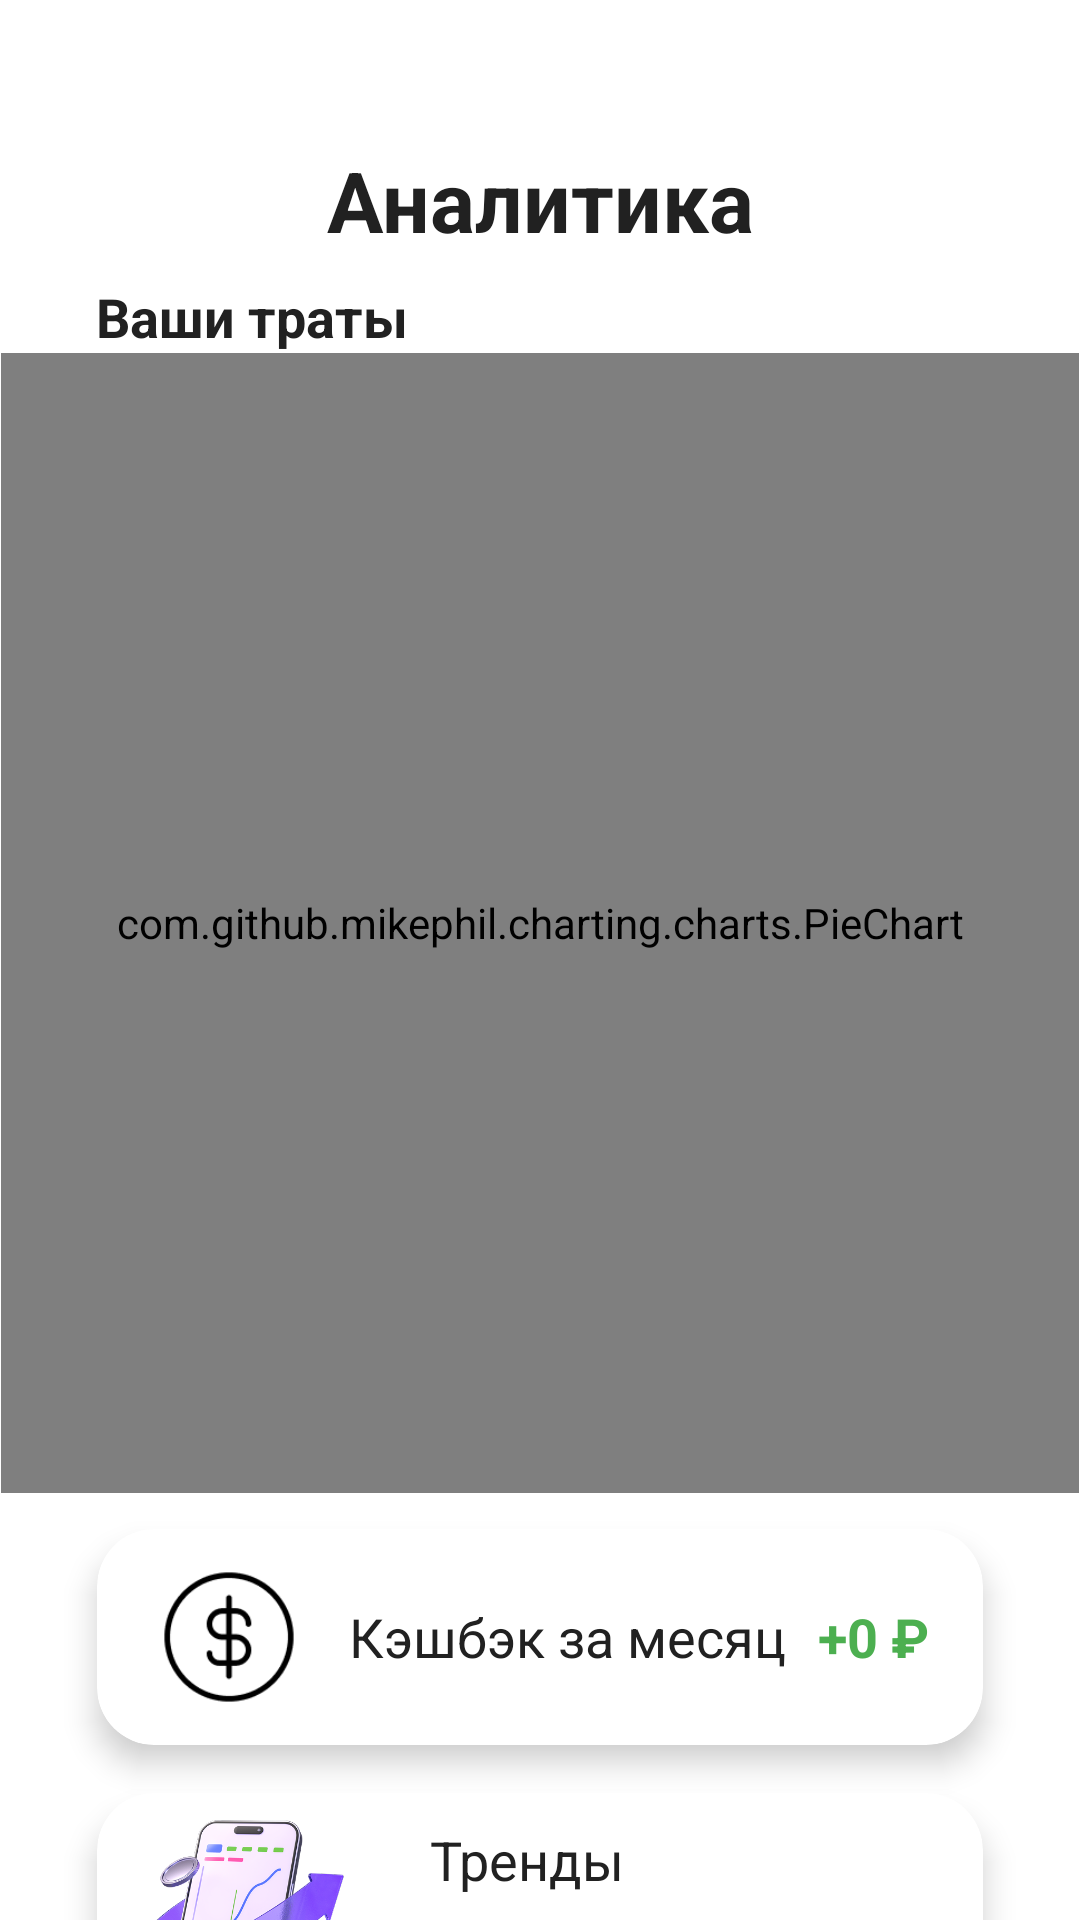

Named icons in this screenshot (1080*1920) and their centers, point (x, y):
dollar: point (229, 1637)
